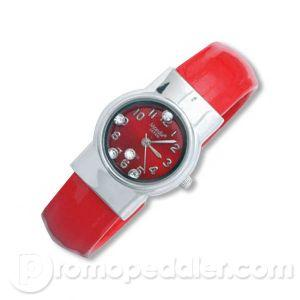watch: (77, 73, 226, 211)
